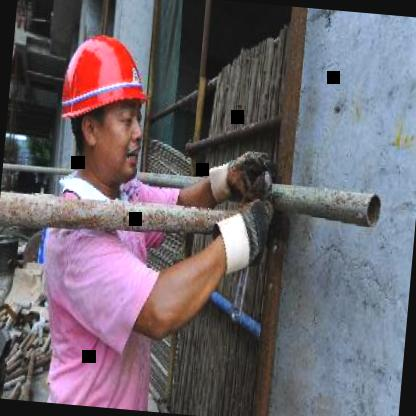helmet: (47, 21, 162, 202)
